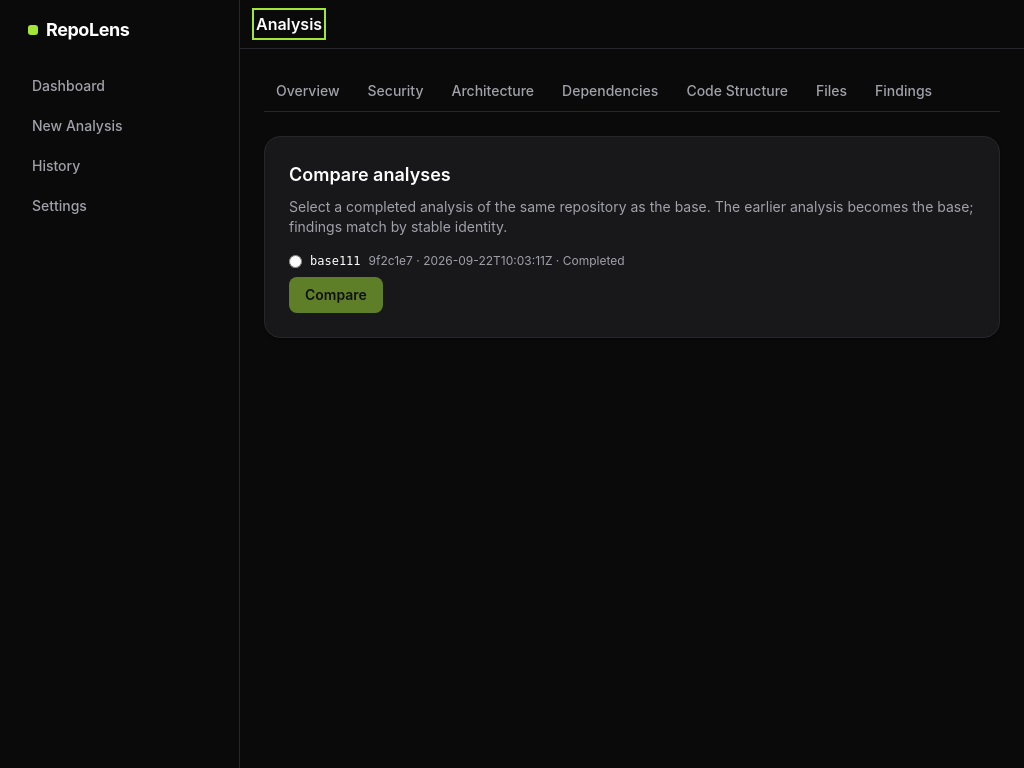
Scenario: Comparison page › offers completed same-repository analyses as base candidates
The image size is (1024, 768).
Expected: the heading "Compare analyses" is shown, [289,164,451,185]
Expected: the text "base111" is shown, [310,253,361,269]
Click the radio button labelled "base111 9f2c1e7 · 2026-09-22T10:03:11Z · Completed": click(296, 261) [289,254,302,268]
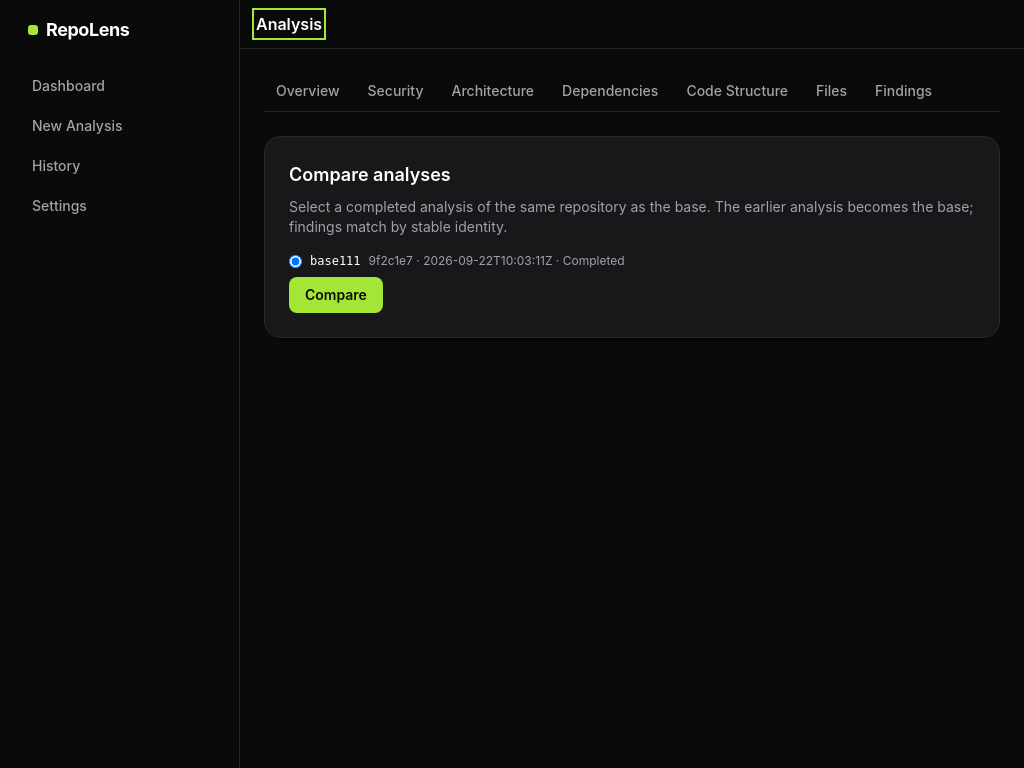
Click the button "Compare": click(336, 295) [289,277,383,313]
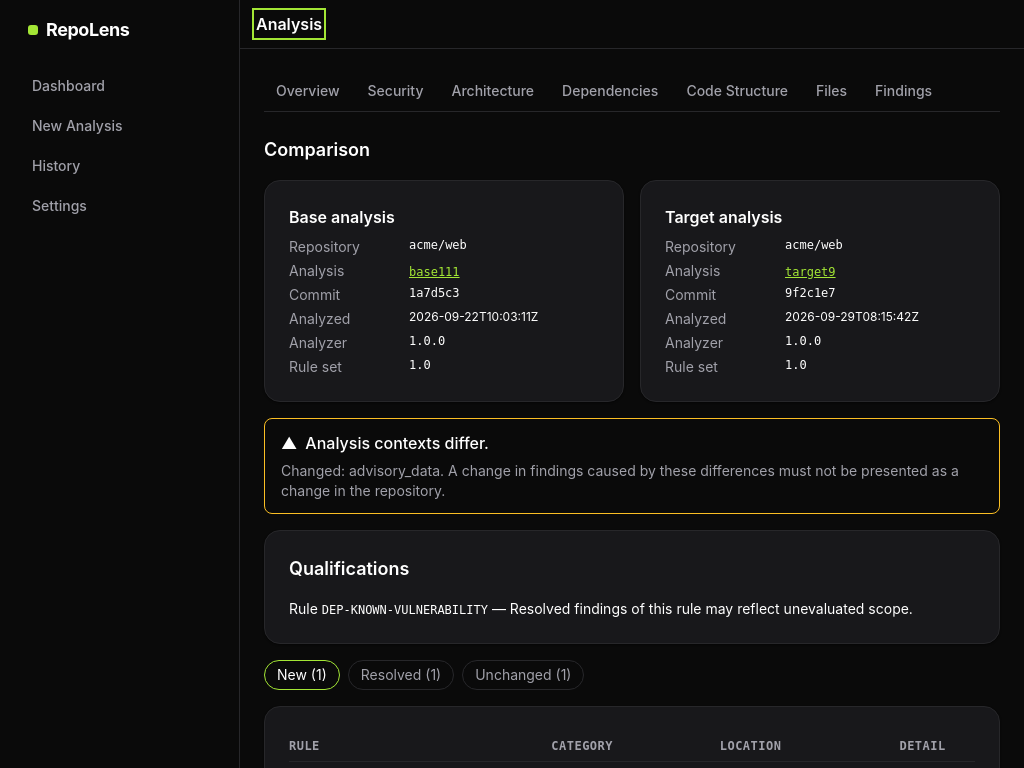
Now the heading "Comparison" is shown, box [264,139,370,160]
Now the button "new (1)" is shown, box [264,660,340,690]
